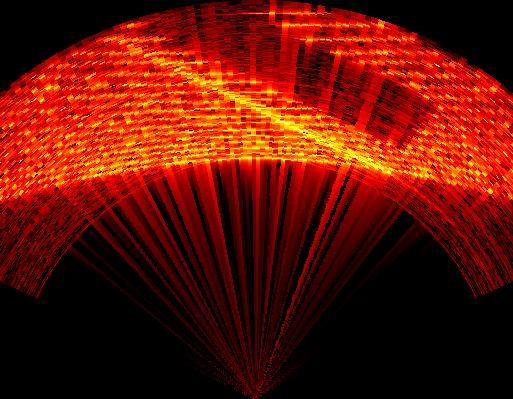pipe: (134, 4, 439, 150)
